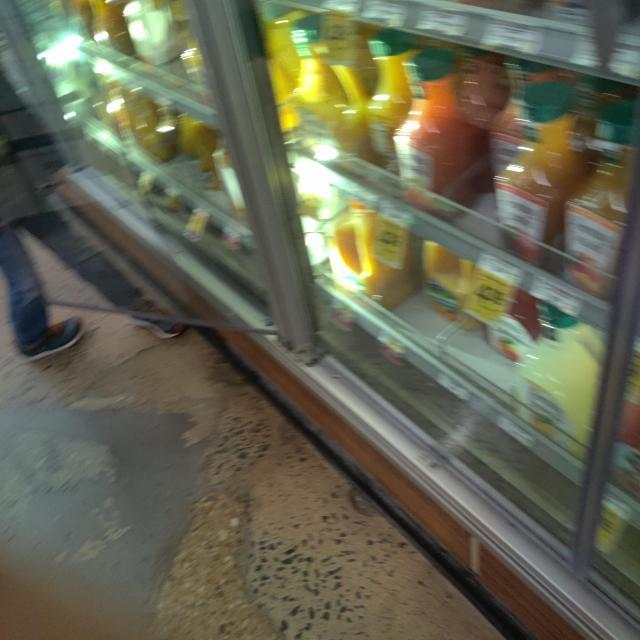Juice: (495, 84, 583, 270), (566, 101, 640, 302), (516, 307, 606, 465), (396, 53, 479, 215), (293, 14, 373, 167), (334, 203, 430, 307), (422, 237, 488, 331)
